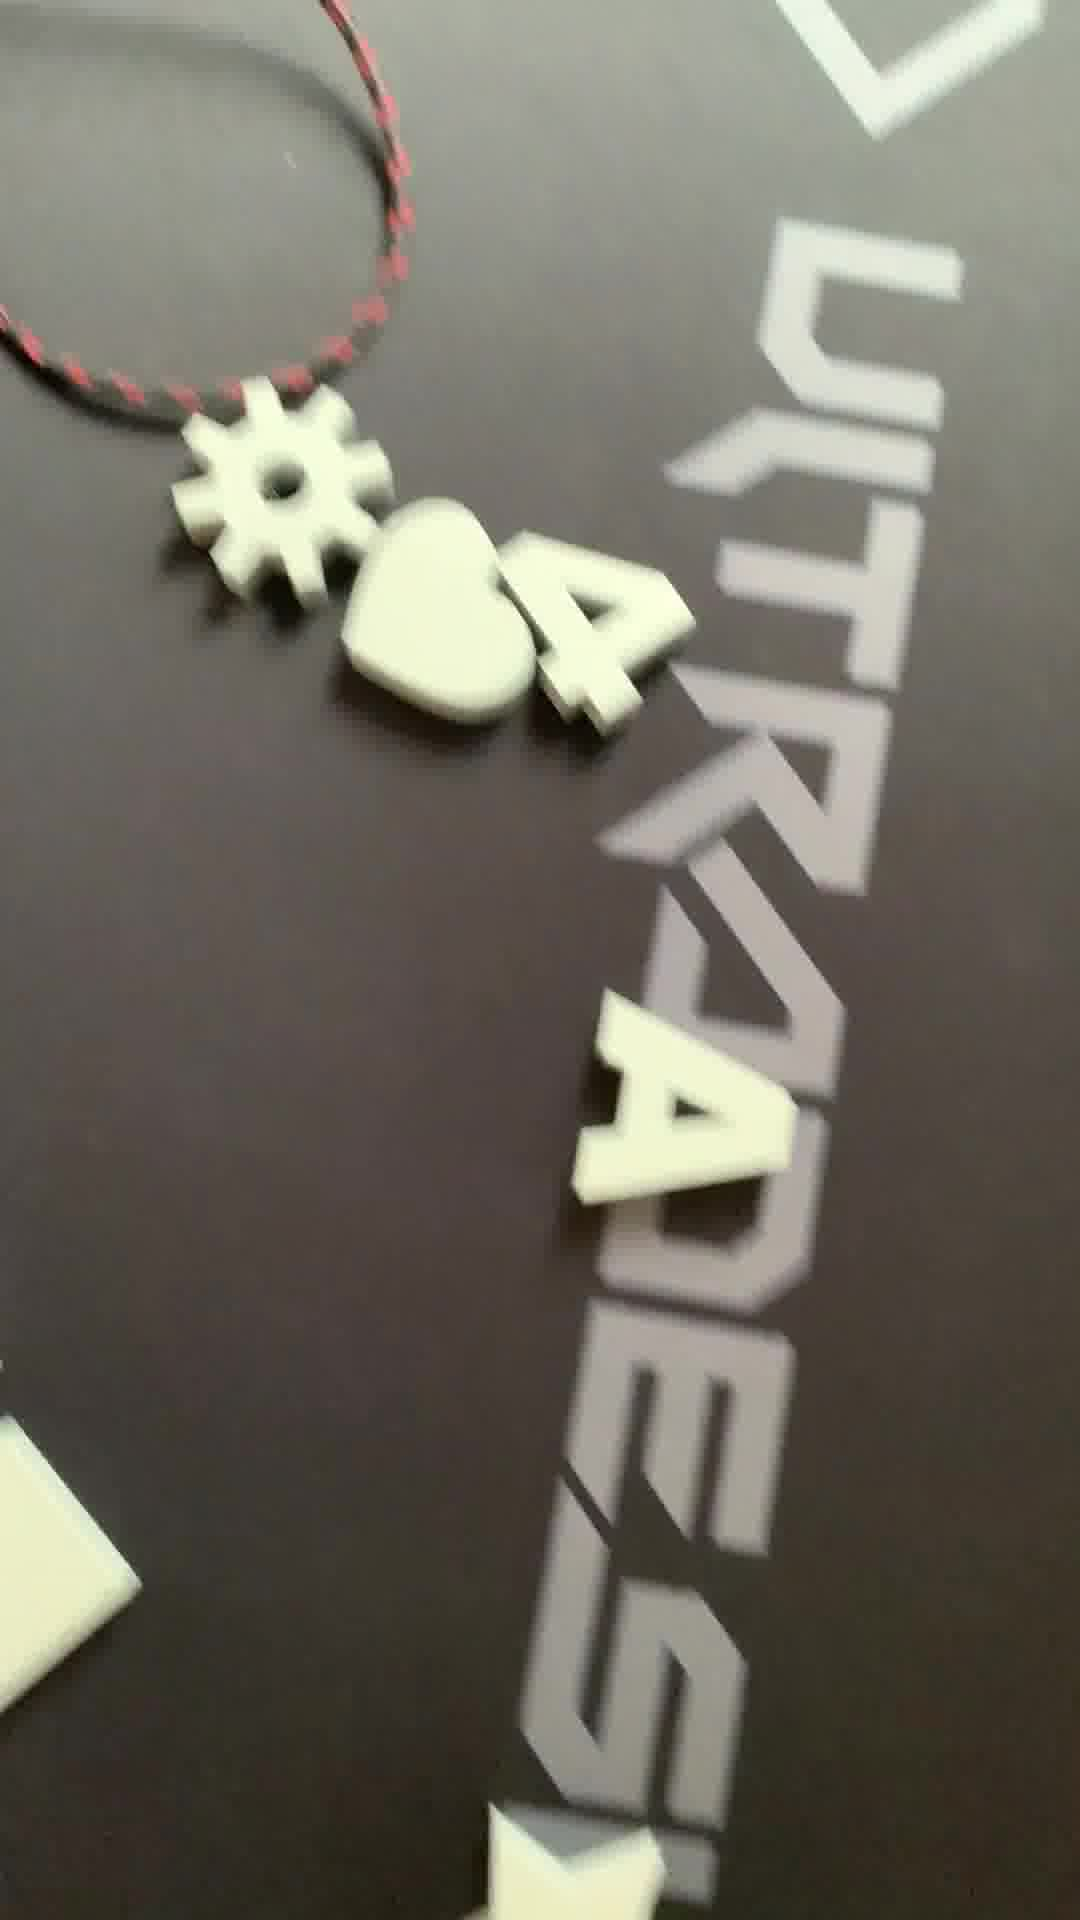Gray A-letter: (541, 981, 807, 1259)
Gray four: (500, 516, 711, 736)
Gray gear: (182, 375, 390, 599)
Gray heart: (331, 495, 545, 731)
Gray square: (1, 1408, 152, 1738)
